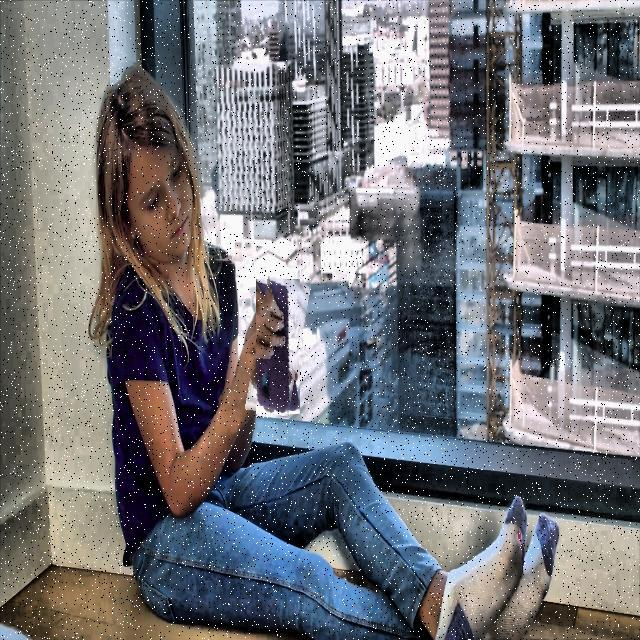Phone: (250, 278, 306, 416)
